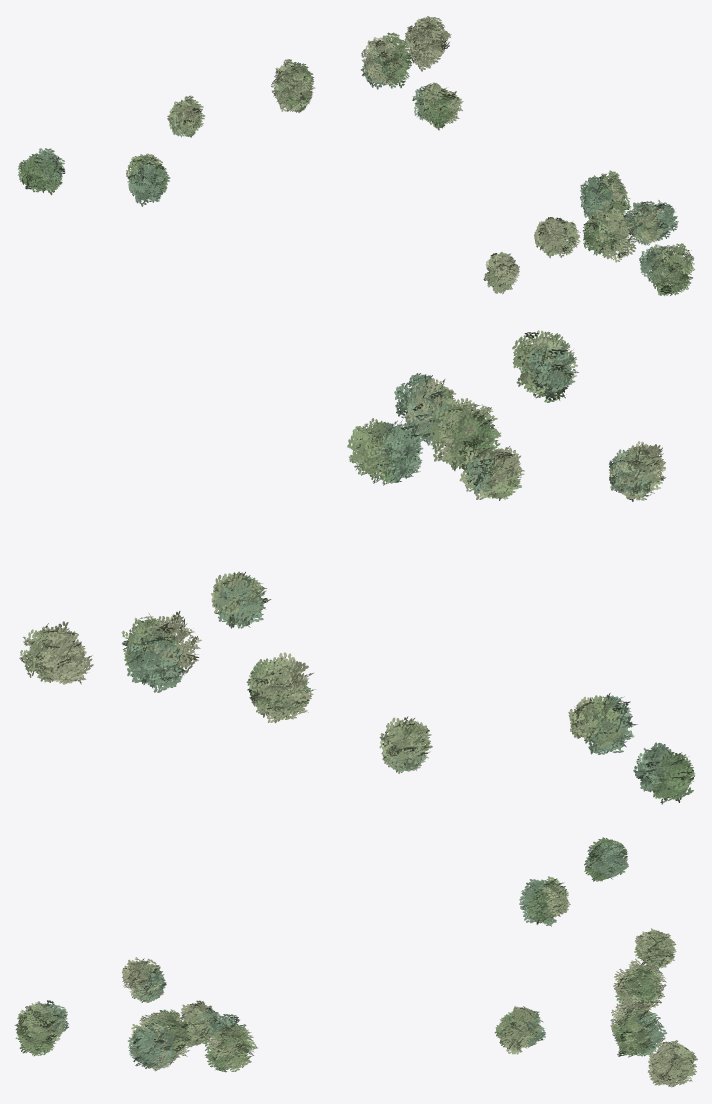
The model's file is campus-tree-0_-2-near.glb.
3 views of the same model, one above another, from view 1: azimuth 30°, elevation 25°; view 2: azimuth 150°, elevation 25°; view 3: azimuth 270°, elevation 25° (orthographic). The views are drawn at different scales.
Visible parts, largest first — view 1: Campus leaf canopy; view 2: Campus leaf canopy; view 3: Campus leaf canopy.
Boxes of the visible parts, left/top/right/bottom form: Campus leaf canopy: left=18, top=16, right=694, bottom=295; Campus leaf canopy: left=19, top=330, right=695, bottom=804; Campus leaf canopy: left=14, top=837, right=697, bottom=1087.
Bounding box in the file's own units: 52.82 × 7.64 × 64.61.
Materials: 1 (1 with a texture image).
